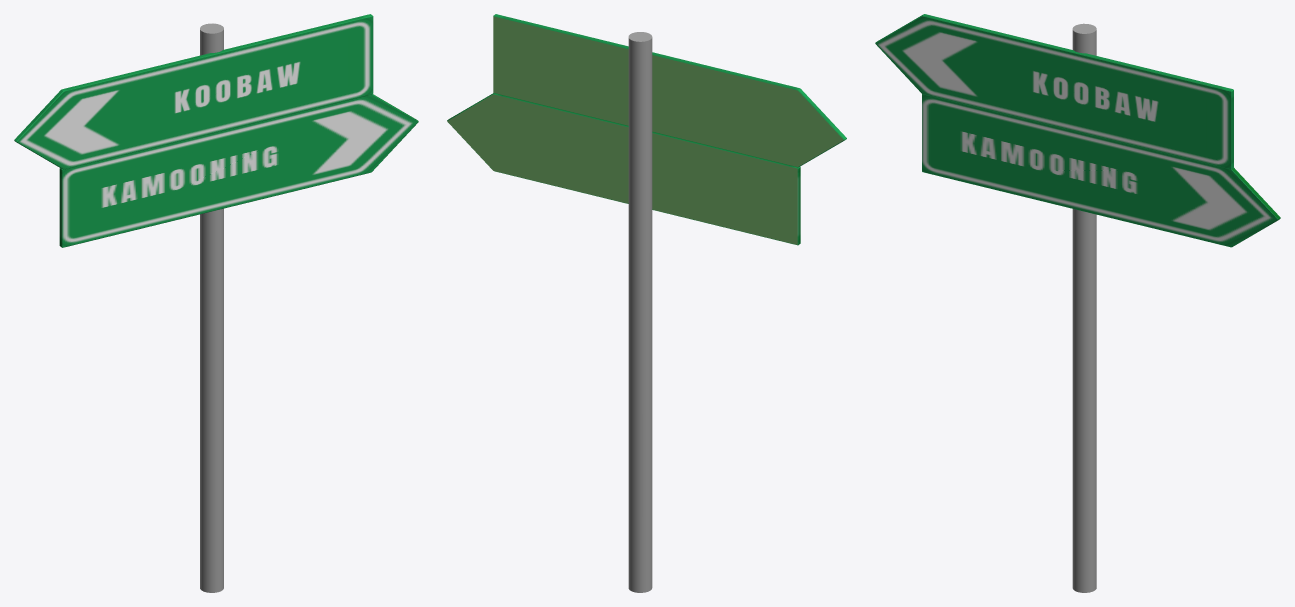
Rendered from Intersection(1)Intersection(1).fbx.
3 renders of one model, left to right at view 1: azimuth 30°, elevation 25°; view 2: azimuth 150°, elevation 25°; view 3: azimuth 330°, elevation 25°, orthographic.
Parts seen in each view (by area): view 1: pCube68; view 2: pCube68; view 3: pCube68.
Part boxes in pixels (left/top/right/bottom): pCube68: left=14, top=14, right=418, bottom=592; pCube68: left=447, top=14, right=846, bottom=592; pCube68: left=875, top=14, right=1280, bottom=592.
Size of the model in its own units: 6.12 by 8.11 by 0.3506.
4 materials, 2 textured.
